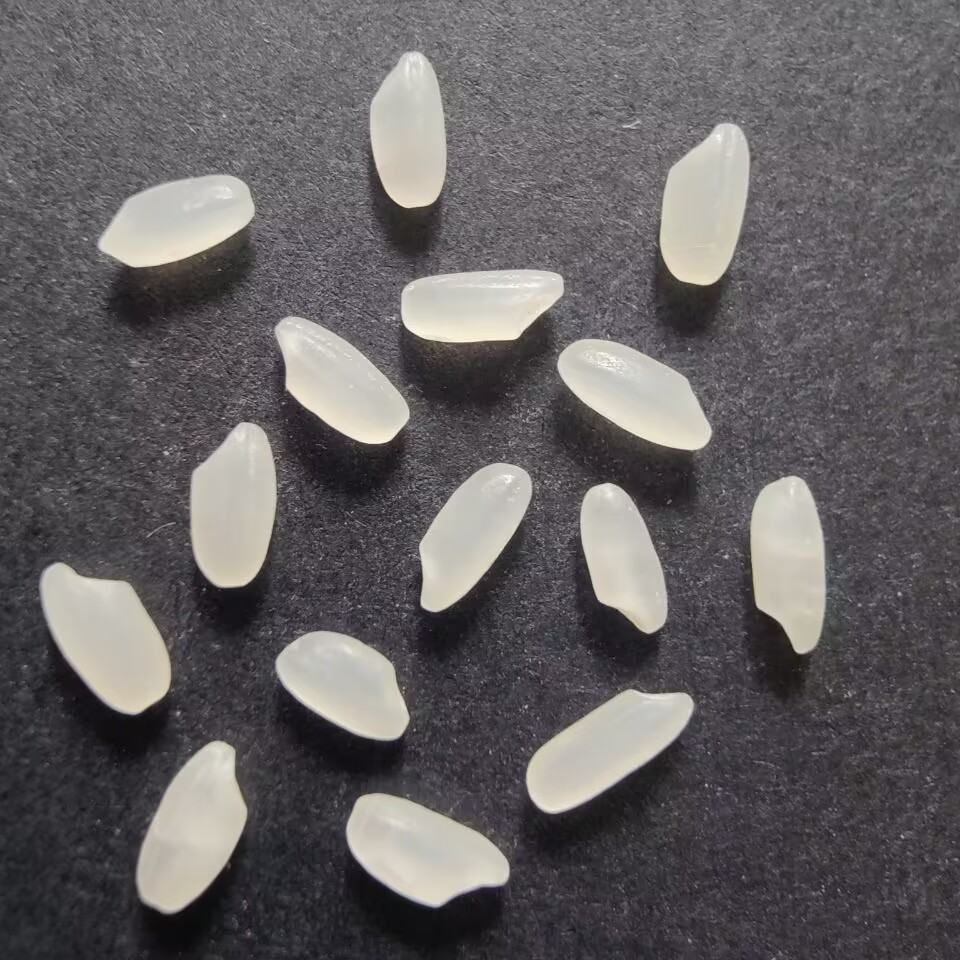rice: (518, 683, 699, 816), (128, 736, 251, 916), (36, 558, 173, 719), (343, 787, 513, 913), (408, 458, 535, 617), (267, 311, 412, 447), (554, 333, 713, 457), (92, 169, 263, 273), (654, 115, 754, 288), (269, 627, 414, 744), (183, 417, 278, 592), (747, 471, 830, 660), (363, 41, 450, 213), (574, 479, 667, 638), (391, 265, 566, 347)
